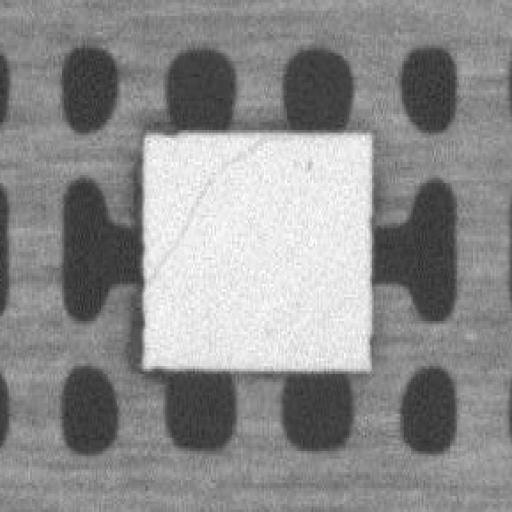DIE_CRACK: (143, 136, 289, 286)
DIE_INK: (303, 154, 317, 172)
